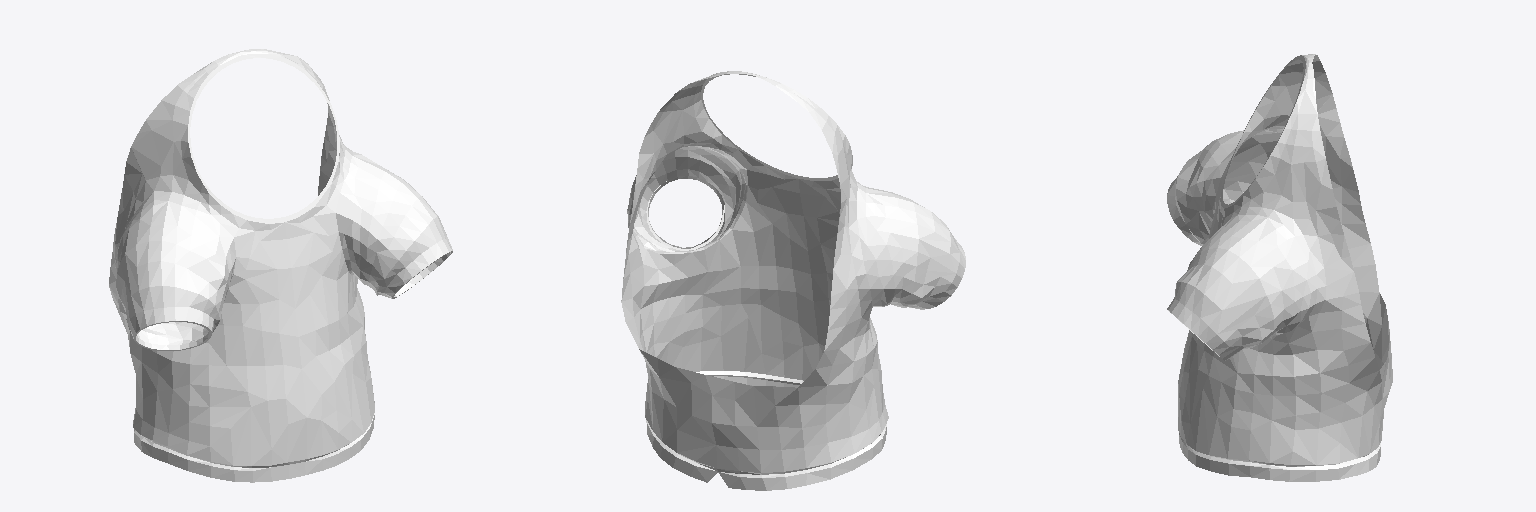
Rendered from ZBrushPolyMesh3D.OBJ.
The picture shows the model from 3 angles: view 1: azimuth 30°, elevation 25°; view 2: azimuth 150°, elevation 25°; view 3: azimuth 270°, elevation 25°; orthographic projection.
Parts seen in each view (by area): view 1: ZBrushPolyMesh3D; view 2: ZBrushPolyMesh3D; view 3: ZBrushPolyMesh3D.
Part boxes in pixels (left/top/right/bottom): ZBrushPolyMesh3D: left=109, top=49, right=452, bottom=482; ZBrushPolyMesh3D: left=621, top=71, right=965, bottom=490; ZBrushPolyMesh3D: left=1167, top=54, right=1392, bottom=481.
Bounding box in the file's own units: 0.0767 × 0.0899 × 0.0478.